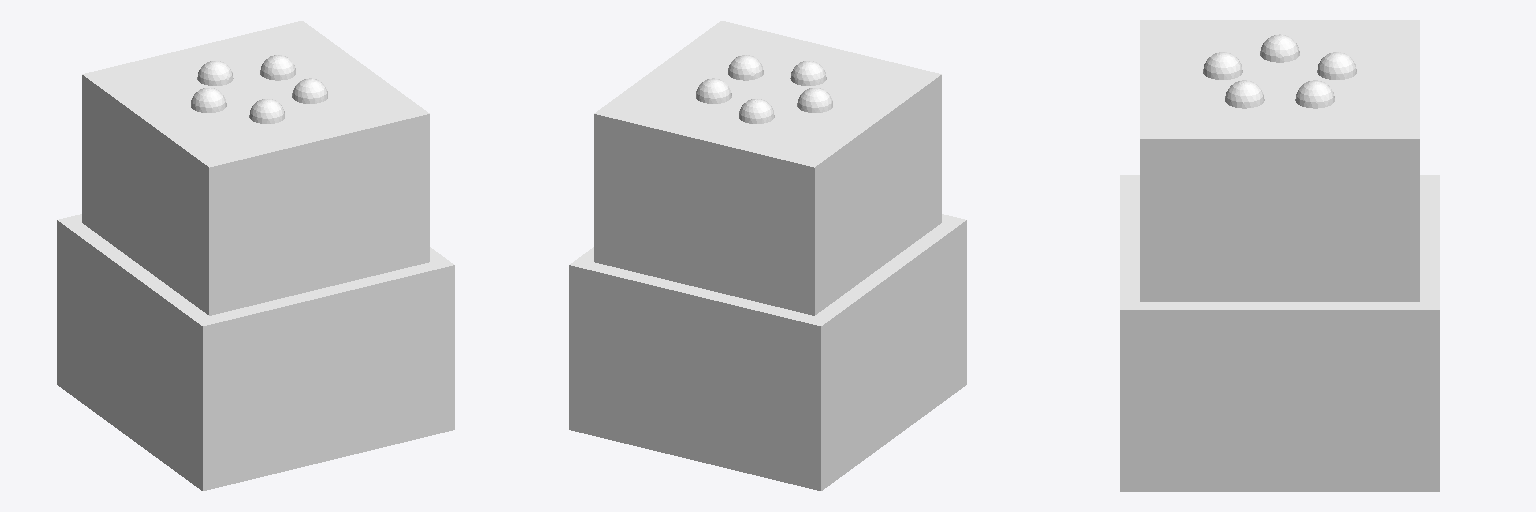
The robot description file, URDF, robot "dots":
<robot name="dots">
	<link name="_name">
		<visual>
			<origin rpy="0 0 0" xyz="-5.659223906976996e-12 7.717888083465528e-12 -0.009158179451430312" />
			<geometry>
				<mesh filename="dots.obj" scale=".001 .001 .001" />
			</geometry>
			<material name="texture">
				<color rgba="1.0 1.0 1.0 1.0" />
			</material>
		</visual>
		<collision>
			<geometry>
				<mesh filename="dots_vhacd.obj" scale=".001 .001 .001" />
			</geometry>
		<origin rpy="0 0 0" xyz="-5.659223906976996e-12 7.717888083465528e-12 -0.009158179451430312" /></collision>
		<inertial>
			<mass value="1.0" />
			<inertia ixx="1.0" ixy="0.0" ixz="0.0" iyy="1.0" iyz="0.0" izz="1.0" />
		</inertial>
	</link>
</robot>

--- Render facts (derived) ---
3 views of the same robot in one strip: view 1: azimuth 30°, elevation 25°; view 2: azimuth 150°, elevation 25°; view 3: azimuth 270°, elevation 25° (orthographic).
Robot: dots — 1 links, 0 joints (none); root link _name; default pose: all joints at 0.
Visible links, largest first — view 1: _name; view 2: _name; view 3: _name.
Boxes of the visible links, x1=… form: _name: x1=57, y1=21, x2=454, y2=490; _name: x1=569, y1=21, x2=966, y2=490; _name: x1=1120, y1=20, x2=1439, y2=491.
Size in the robot's own frame: 0.016 by 0.016 by 0.02 metres.
1 mesh visuals loaded from 1 distinct referenced files (1 OBJ).